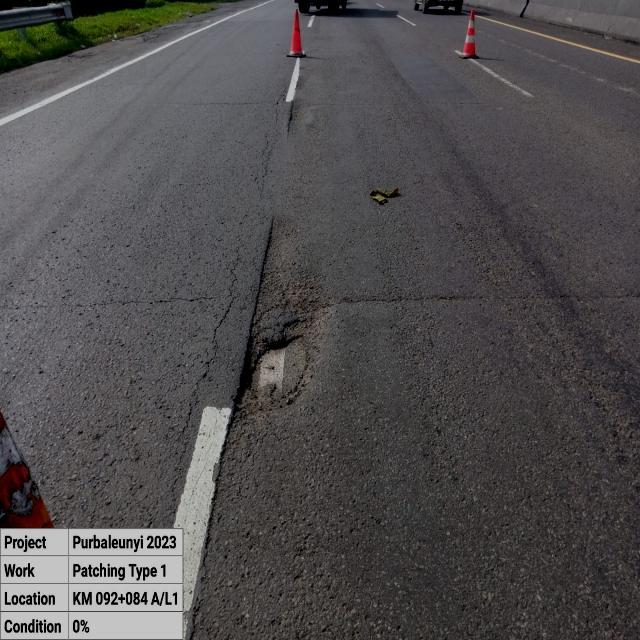Buraco: (227, 314, 331, 428)
